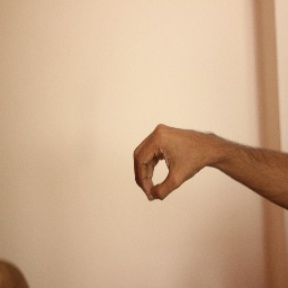O: (128, 119, 221, 203)
